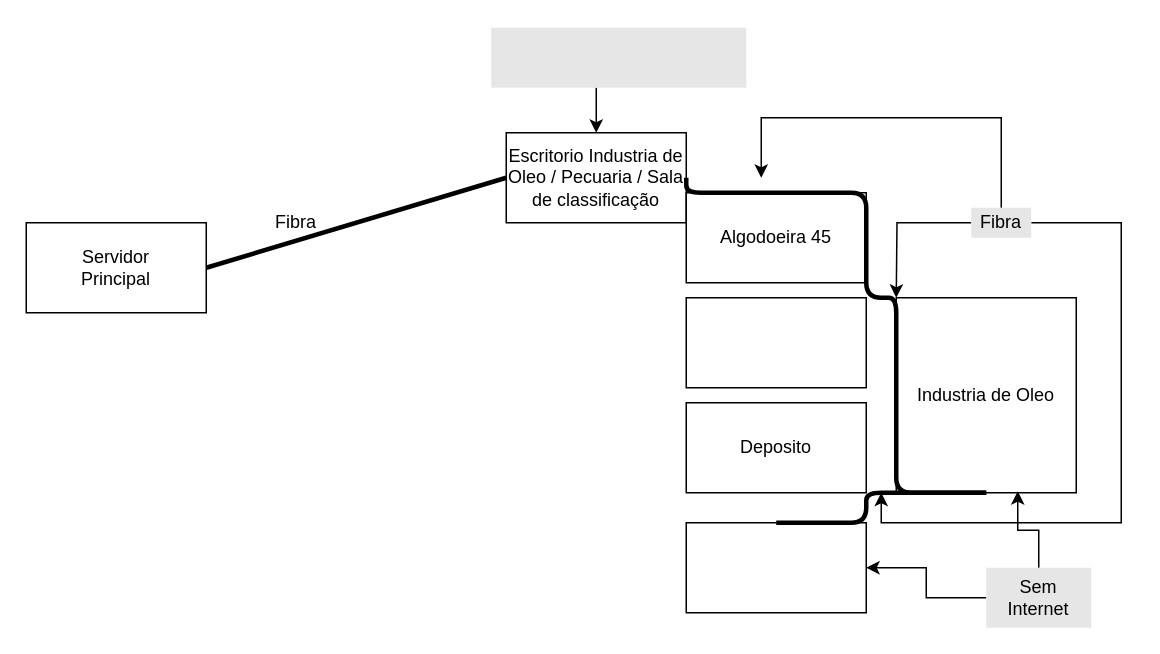
This 1160x654 diagram has some shape labels left out. Here are the shapes that lost their labels. From the top down, the centre of each, then its label:
At [618,57]: "Internet esta chegando no escritorio e este possui um rack de fibra otica".
At [775,342]: "Esteira de Algodao".
At [775,567]: "Algodoeira 60".
